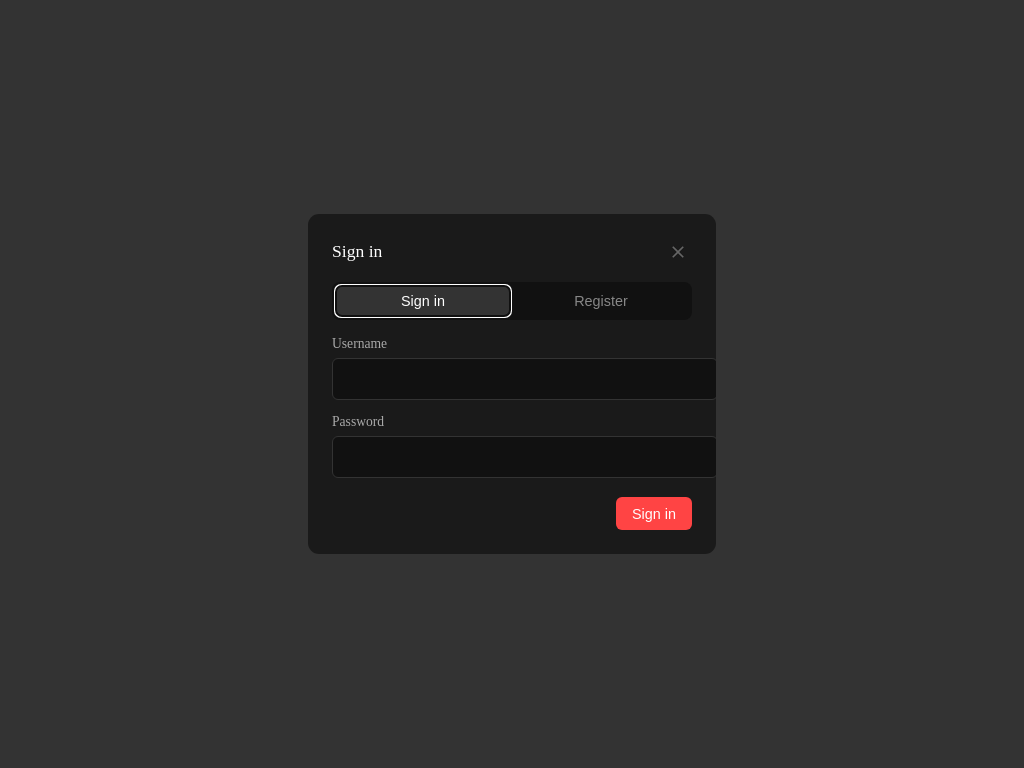
Test: AuthModal – sign in › shows the server error for wrong credentials
Type "alice" into the field labelled "Username". click: (525, 379)
box: [332,358,718,400]
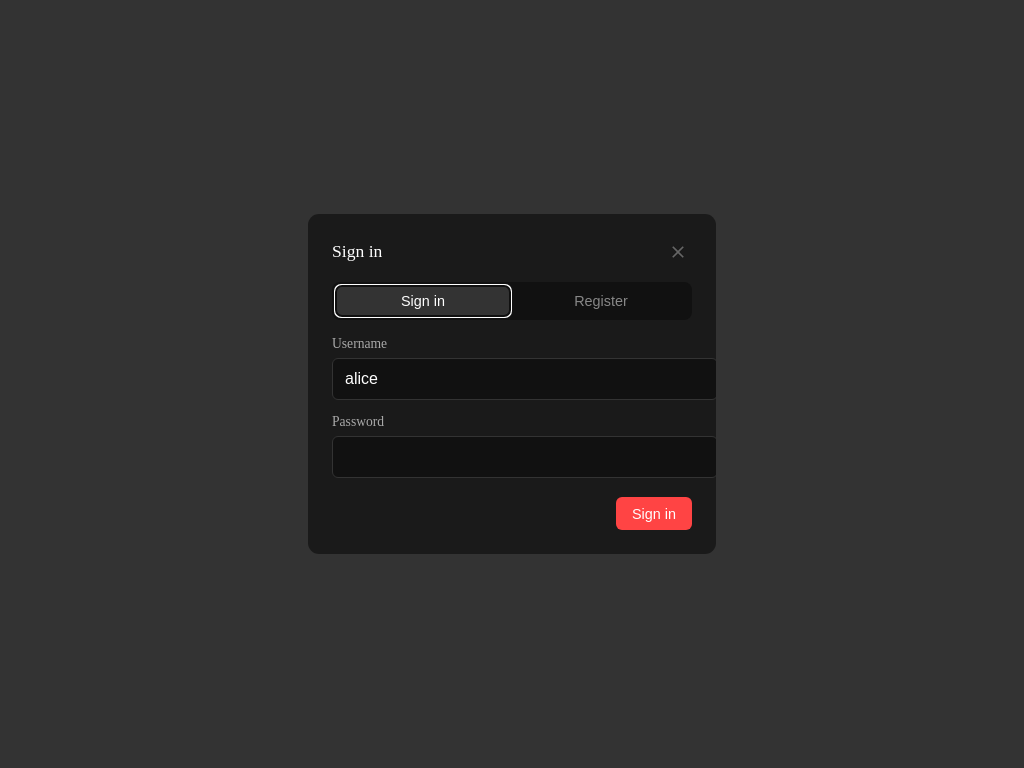
Type "wrong horse" into the password field labelled "Password". click: (525, 457)
box: [332,436,718,478]
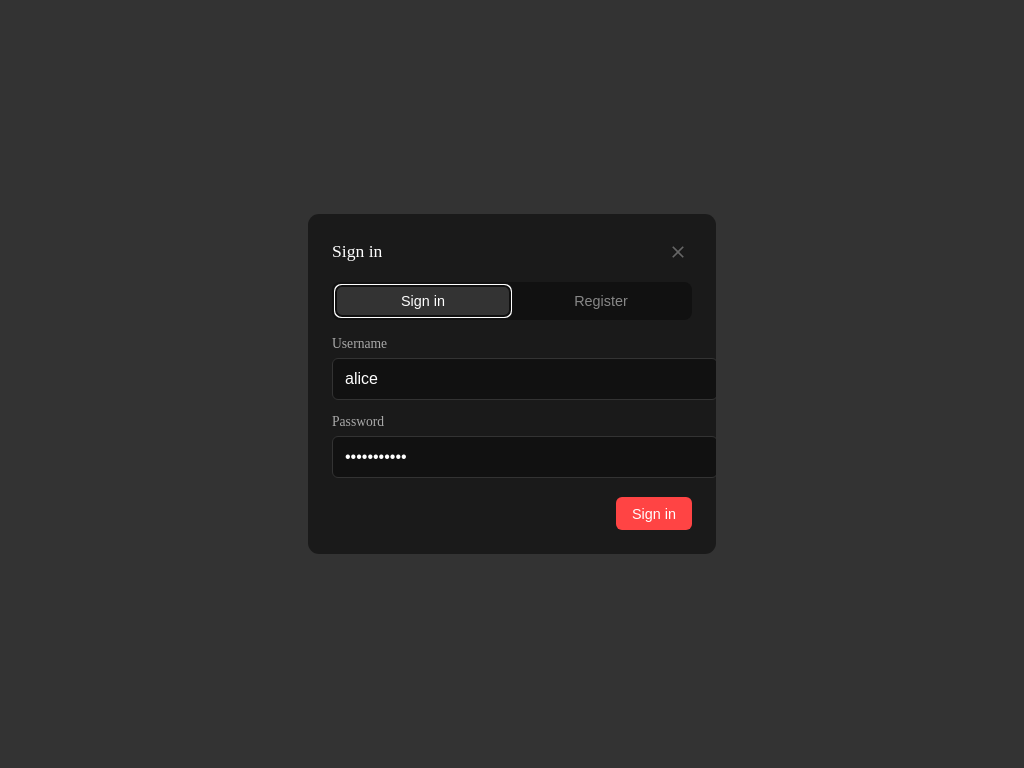
Submit the form labelled "Username", box [332,336,692,530]
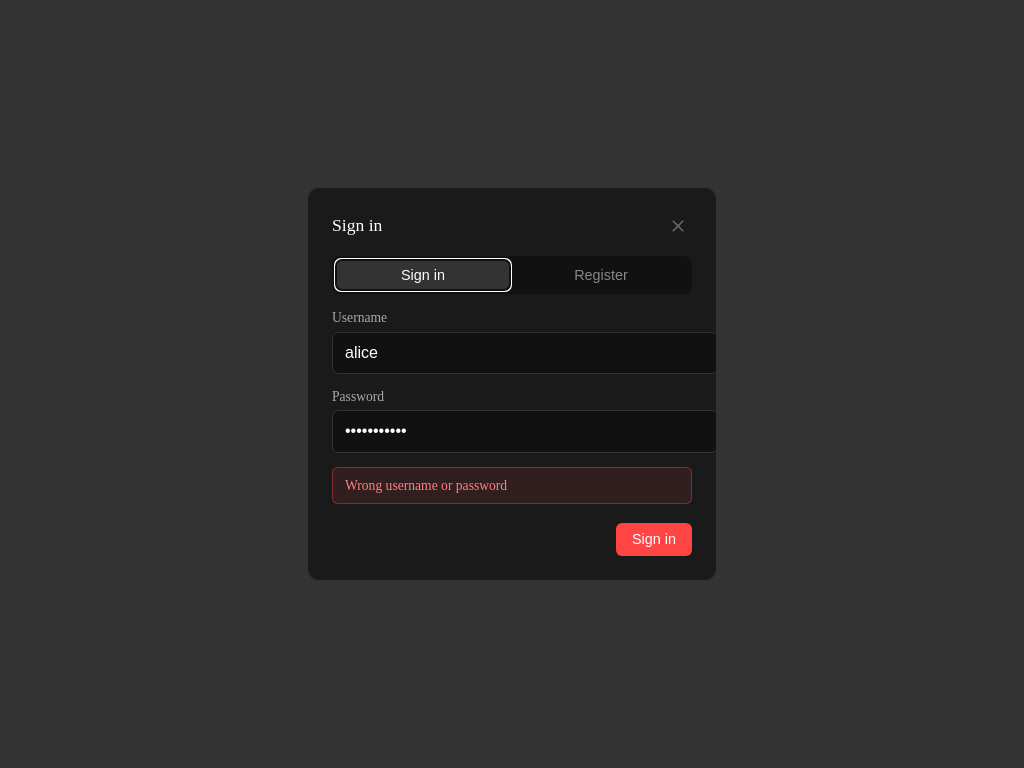
Expected: the message reads "Wrong username or password", [345,478,507,492]
